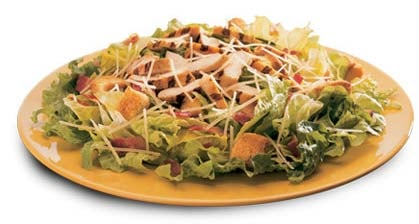sandwich: (30, 15, 406, 191)
